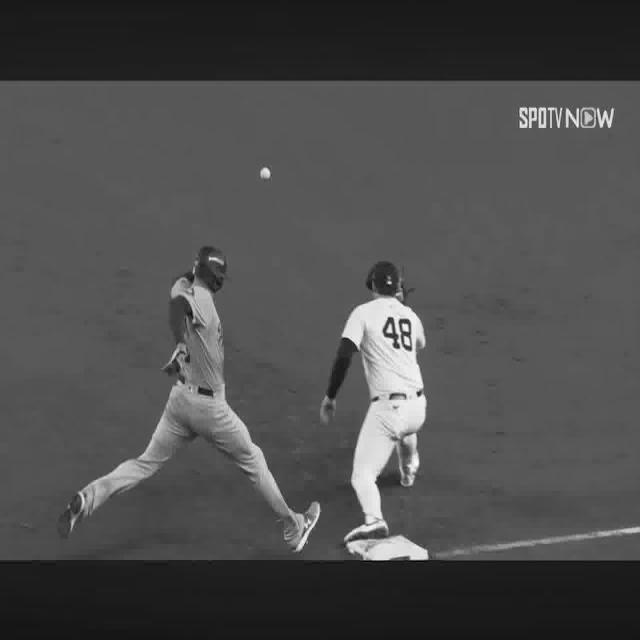base: (346, 535, 430, 562)
baseball: (259, 168, 270, 180)
shoe: (284, 502, 321, 552), (56, 492, 84, 538), (344, 518, 389, 543), (400, 452, 419, 487)
